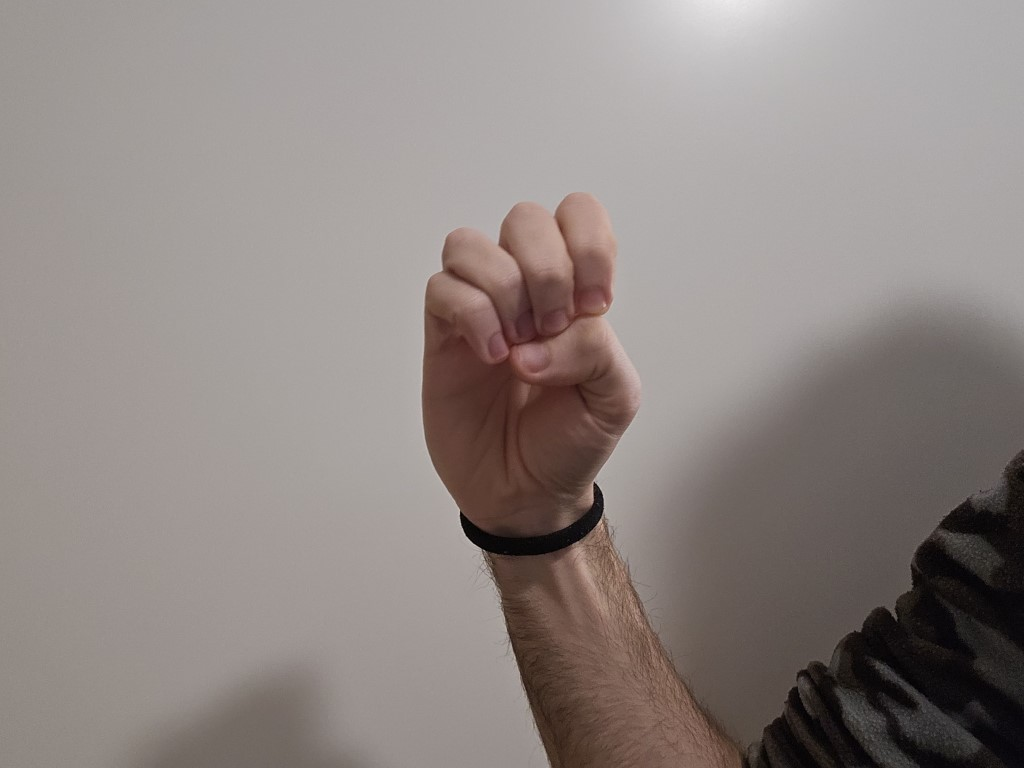e: (378, 176, 670, 538)
